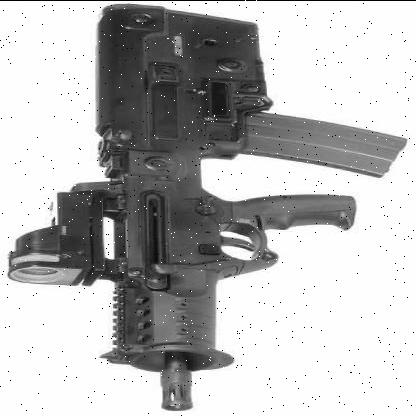rifle: (7, 2, 415, 414)
